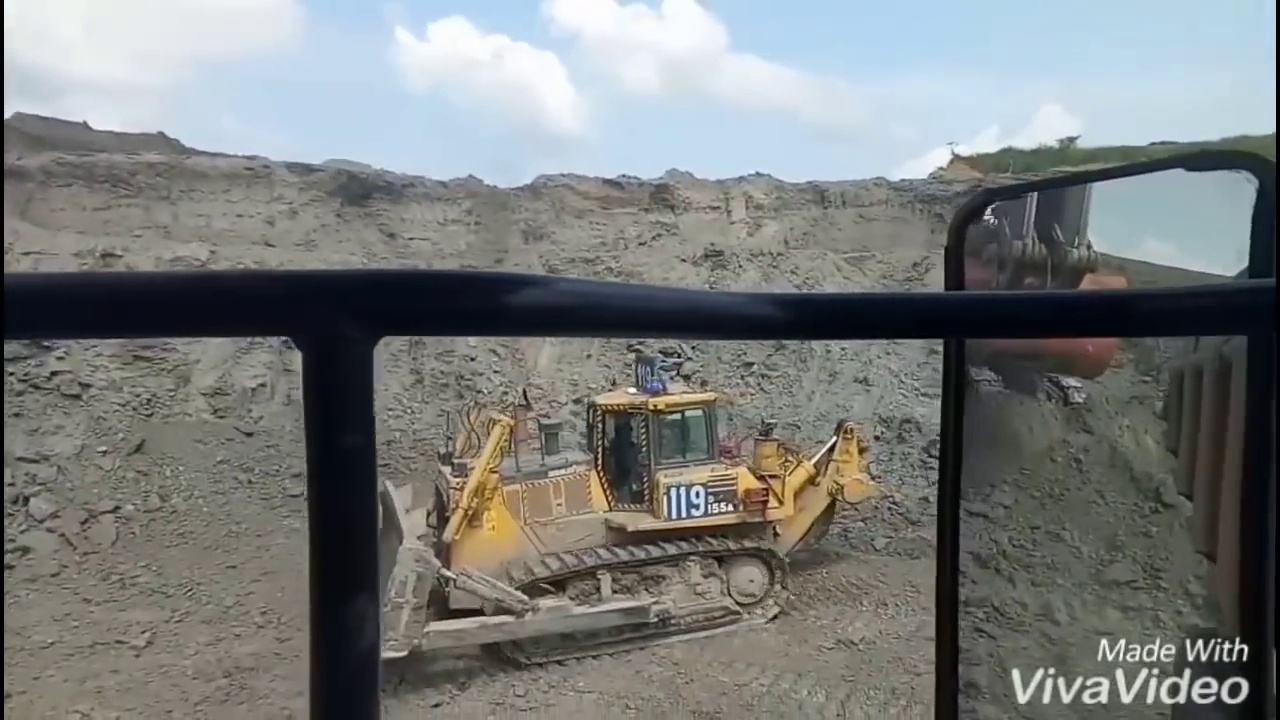bulldozer: (352, 384, 889, 659)
